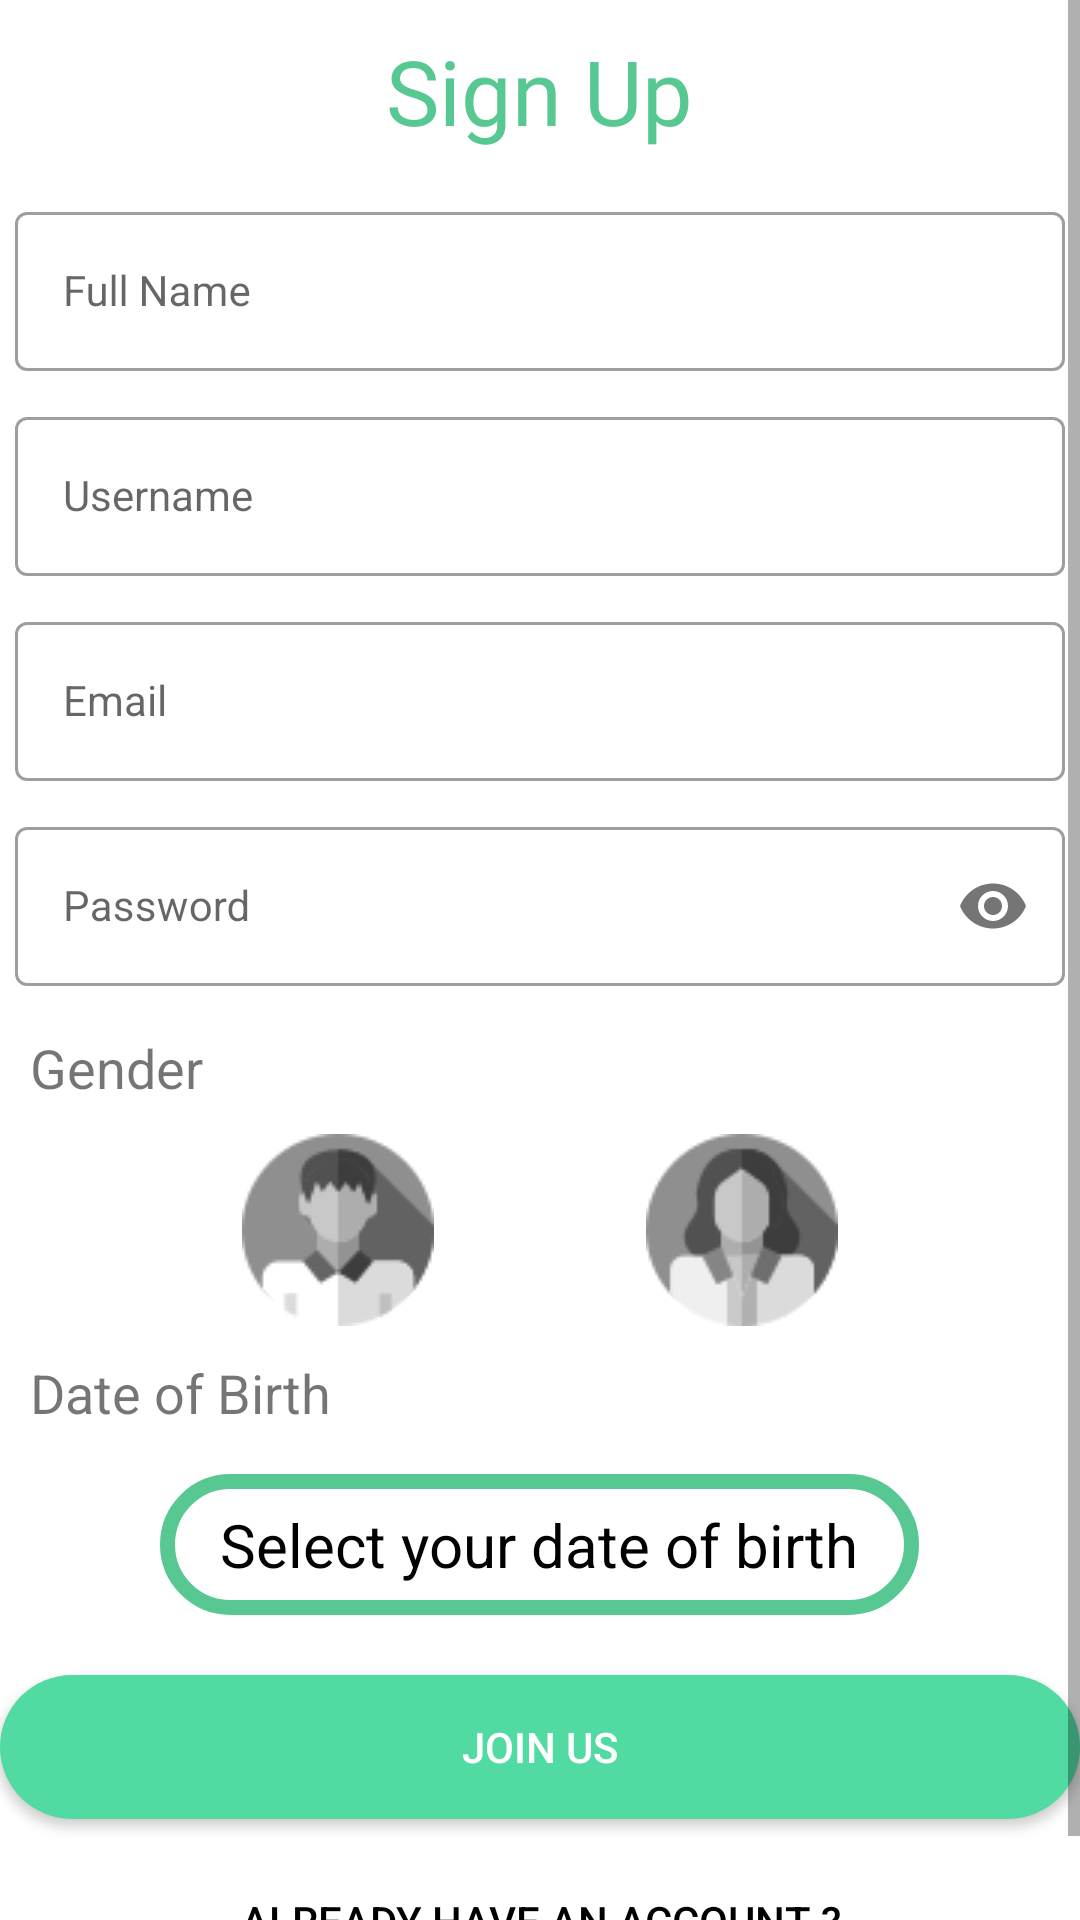

Screen size 1080*1920. Icon name, then its box in pixels as box(x1, y1, x2, y2):
female checkbox: box(646, 1134, 838, 1326)
male checkbox: box(242, 1134, 434, 1326)
